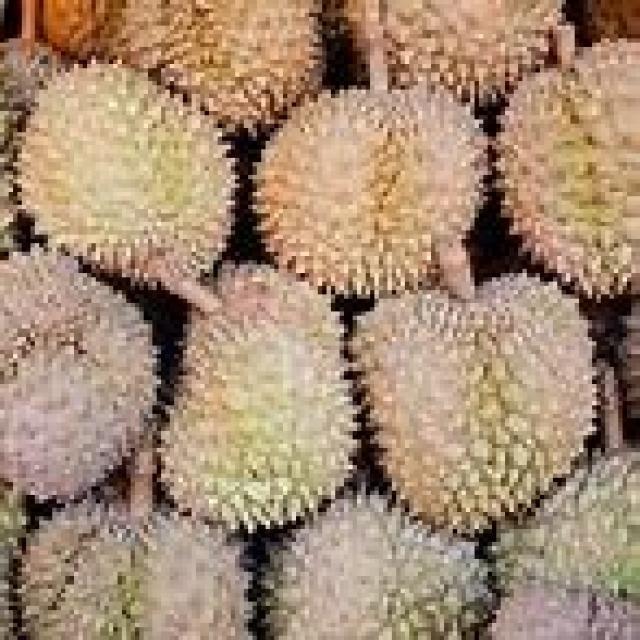mature: (352, 275, 594, 529), (256, 91, 477, 293), (0, 249, 154, 501)
